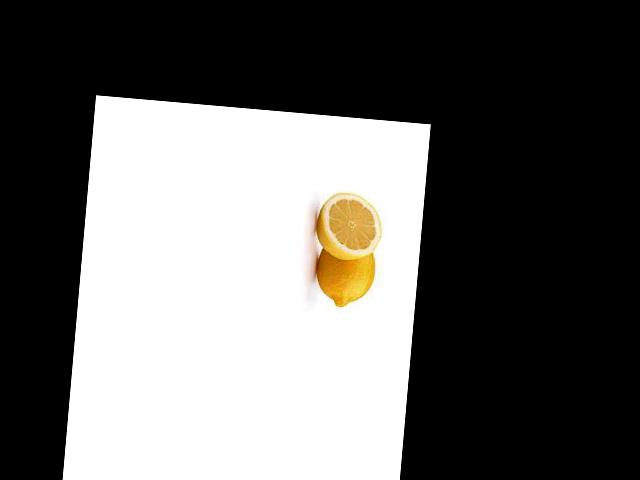lemon: (307, 236, 380, 313)
